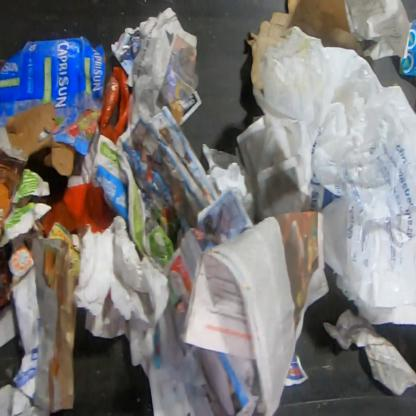cardboard: (0, 36, 106, 176), (246, 0, 368, 84), (0, 127, 29, 247)
soft_plastic: (253, 26, 416, 325), (42, 175, 117, 238), (100, 67, 129, 145)
